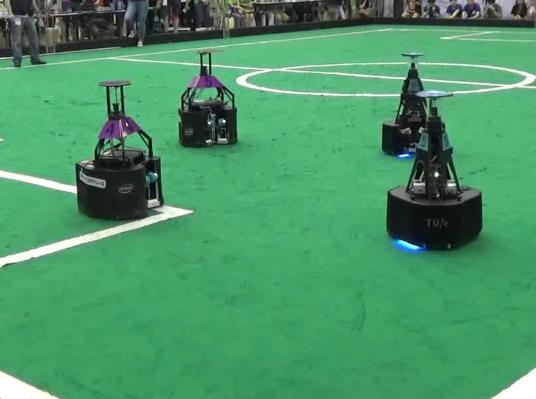robot: (383, 88, 488, 253), (71, 76, 171, 220), (170, 46, 245, 151), (379, 49, 448, 159)
